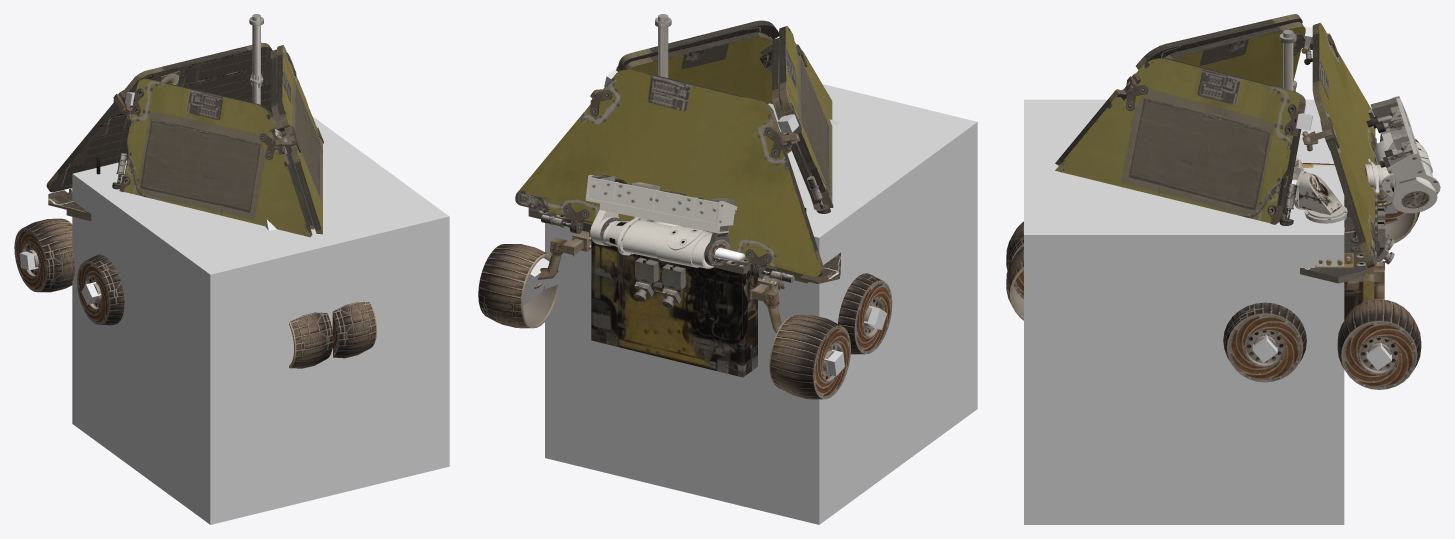
The model's file is mer.glb.
The picture shows the model from 3 angles, left to right: view 1: azimuth 30°, elevation 25°; view 2: azimuth 150°, elevation 25°; view 3: azimuth 270°, elevation 25°; orthographic projection. The views are drawn at different scales.
Parts seen in each view (by area): view 1: _root, panels_left_front, panels_rear, panels_right_front, suspension_left_rear_wheel, suspension_left_middle_wheel, suspension_right_front_wheel, suspension_left_front_wheel, body, panels_right_rear; view 2: _root, panels_rear, body, mast_top, panels_left_front, panels_right_rear, suspension_left_rear_wheel, suspension_right_rear_wheel, mast_neck, suspension_left_middle_wheel, panels_right_front, panels_left_rear (+3 smaller); view 3: _root, panels_right_front, panels_rear, suspension_right_rear_wheel, suspension_right_middle_wheel, panels_left_rear, body, mast_top, panels_left_front, mast_neck, HGAA_top, suspension_right_front_wheel (+2 smaller).
Boxes of the visible parts, box(x1,y1,x2,y2) form: _root: box(72, 116, 449, 524); panels_left_front: box(112, 79, 312, 237); panels_rear: box(46, 42, 272, 192); panels_right_front: box(276, 45, 323, 234); suspension_left_rear_wheel: box(14, 218, 74, 292); suspension_left_middle_wheel: box(77, 254, 124, 325); suspension_right_front_wheel: box(332, 302, 376, 358); suspension_left_front_wheel: box(289, 312, 333, 368); body: box(48, 14, 263, 221); panels_right_rear: box(270, 49, 314, 229); _root: box(545, 84, 977, 524); panels_rear: box(515, 69, 823, 276); body: box(528, 14, 840, 377); mast_top: box(585, 174, 745, 266); panels_left_front: box(779, 26, 833, 213); panels_right_rear: box(623, 32, 772, 103); suspension_left_rear_wheel: box(769, 315, 850, 399); suspension_right_rear_wheel: box(478, 244, 558, 328); mast_neck: box(617, 217, 713, 268); suspension_left_middle_wheel: box(838, 273, 892, 354); panels_right_front: box(616, 20, 779, 71); panels_left_rear: box(772, 38, 819, 209); _root: box(1024, 99, 1344, 524); panels_right_front: box(1055, 58, 1302, 225); panels_rear: box(1301, 23, 1376, 268); suspension_right_rear_wheel: box(1337, 299, 1421, 389); suspension_right_middle_wheel: box(1223, 302, 1306, 382); panels_left_rear: box(1139, 22, 1305, 88); body: box(1279, 29, 1394, 319); mast_top: box(1366, 96, 1437, 213); panels_left_front: box(1055, 14, 1302, 165); mast_neck: box(1294, 140, 1440, 196); HGAA_top: box(1291, 170, 1341, 215); suspension_right_front_wheel: box(1006, 246, 1023, 320).
Size of the model in its own units: 1.28 by 1.55 by 1.36.
Materials: 8 (7 with a texture image).
